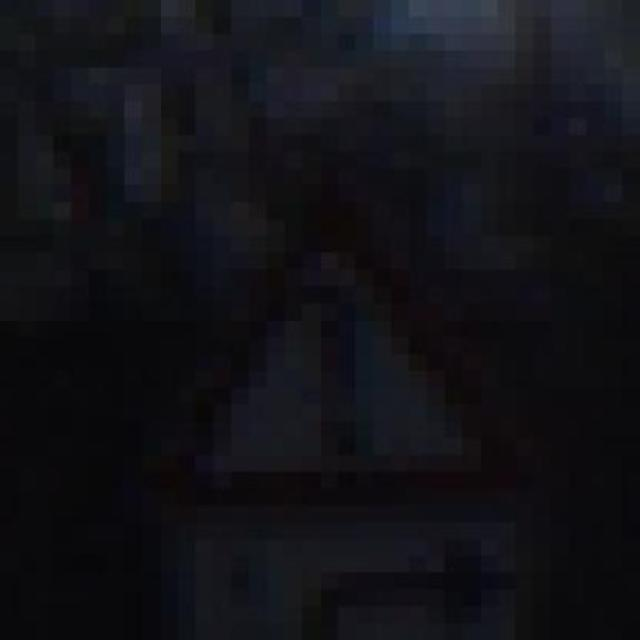Attention Please-: (142, 202, 516, 506)
